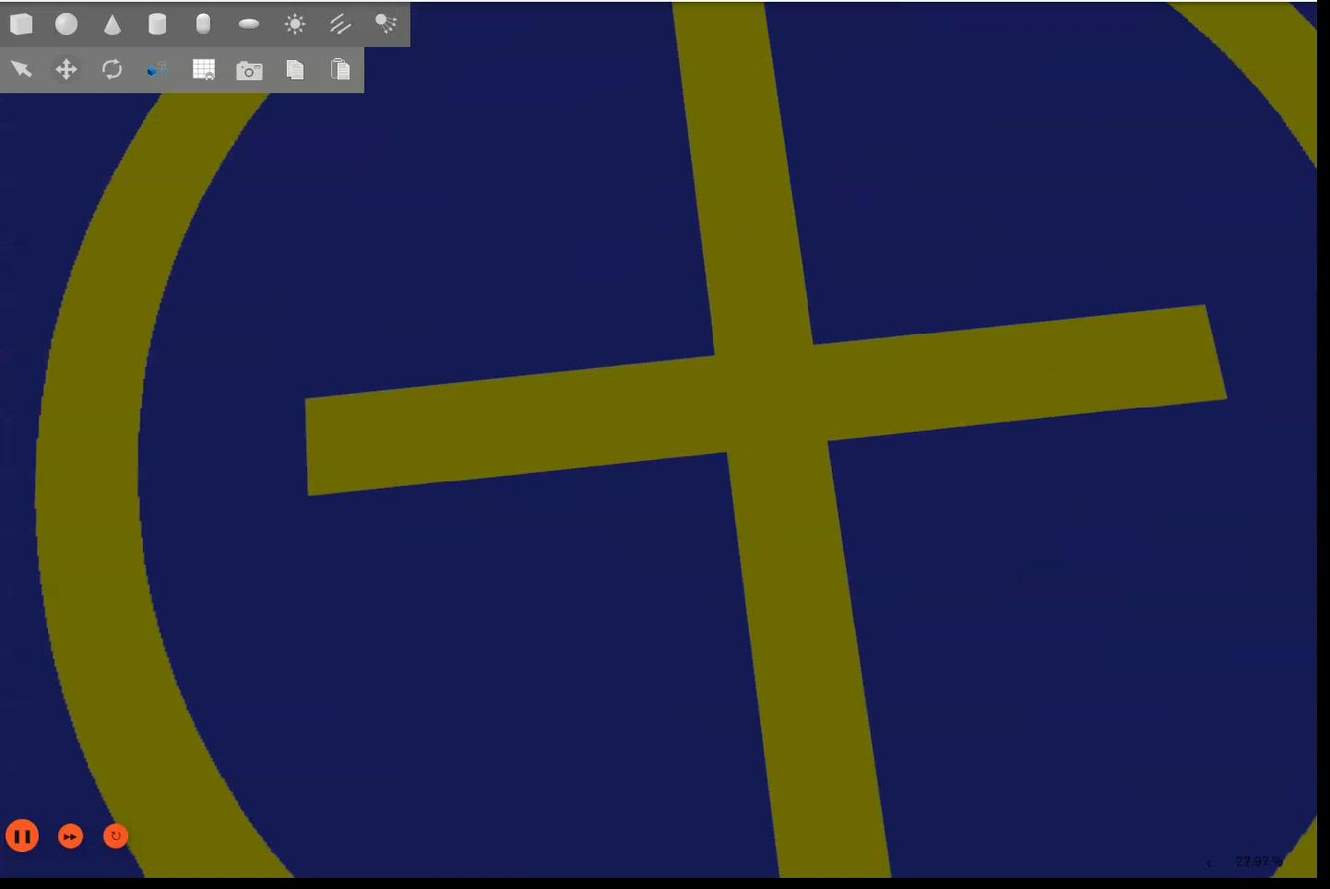small_base: (1, 1, 1320, 884)
